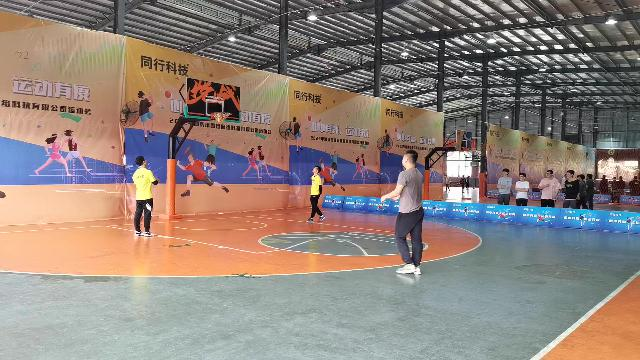goal: (214, 112, 223, 122)
